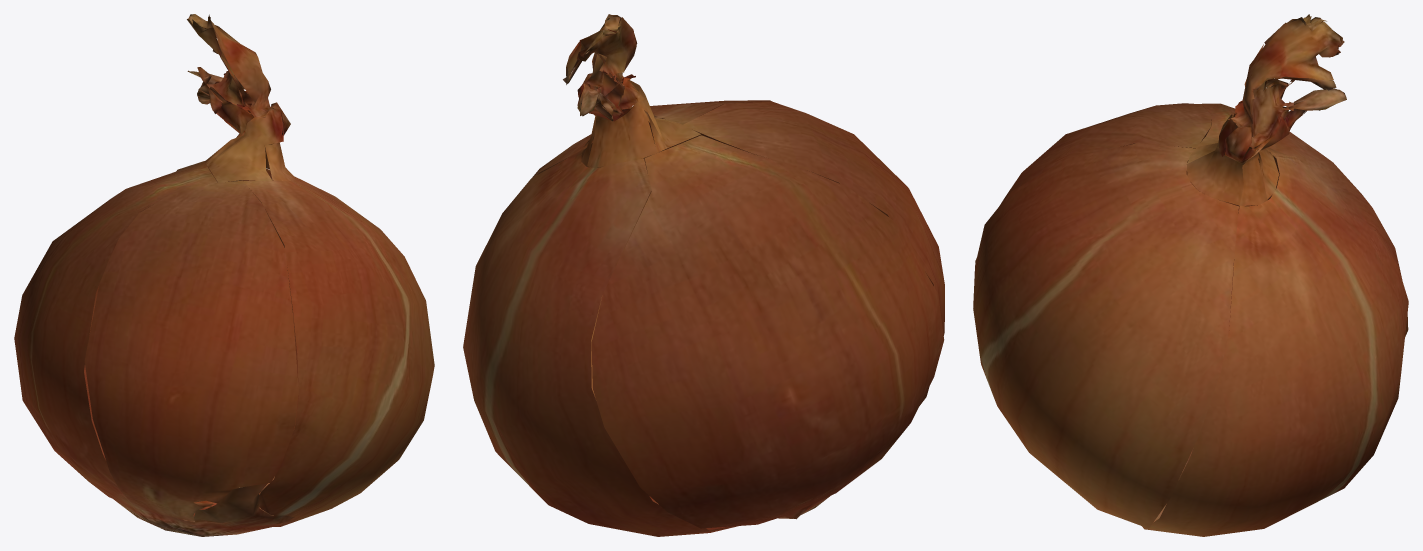
Rendered from yellow_onion.glb.
3 renders of one model, left to right at view 1: azimuth 30°, elevation 25°; view 2: azimuth 150°, elevation 25°; view 3: azimuth 270°, elevation 25°, orthographic. The views are drawn at different scales.
Parts seen in each view (by area): view 1: yellow_onion; view 2: yellow_onion; view 3: yellow_onion.
Boxes of the visible parts, x1,y1,x2,y2 form: yellow_onion: (14, 14, 434, 536); yellow_onion: (463, 14, 944, 536); yellow_onion: (973, 14, 1408, 536).
Size of the model in its own units: 0.0729 by 0.0866 by 0.0689.
1 material, 1 textured.
